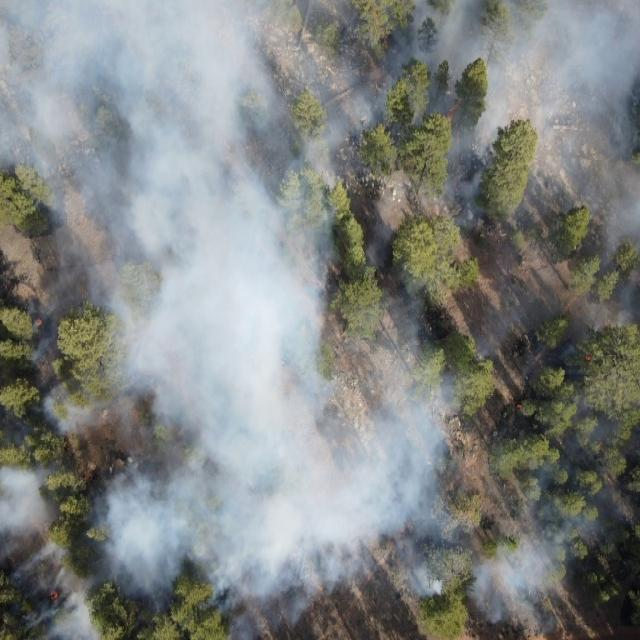fire: (445, 105, 459, 124), (34, 314, 44, 328), (584, 350, 594, 364), (50, 590, 60, 601), (514, 401, 524, 410)
smoke: (0, 0, 640, 211), (55, 212, 348, 640), (346, 212, 469, 599), (472, 515, 601, 636), (0, 452, 54, 640), (4, 296, 54, 446)
